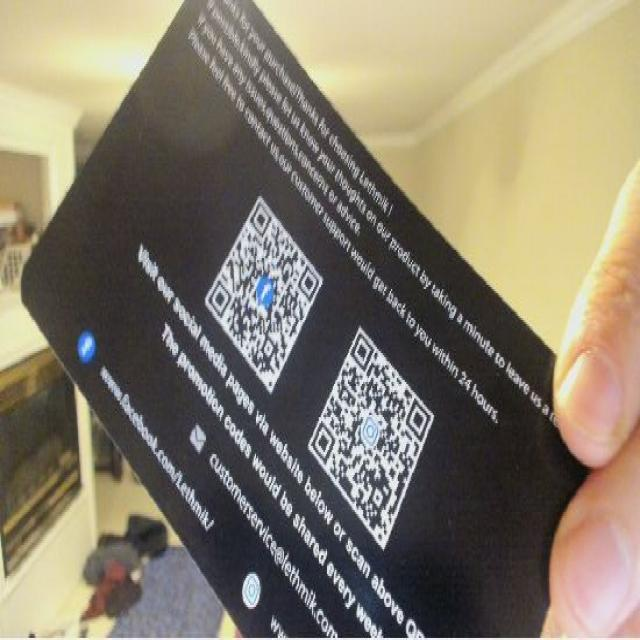QR_CODE: (304, 322, 454, 563), (192, 157, 323, 402)
